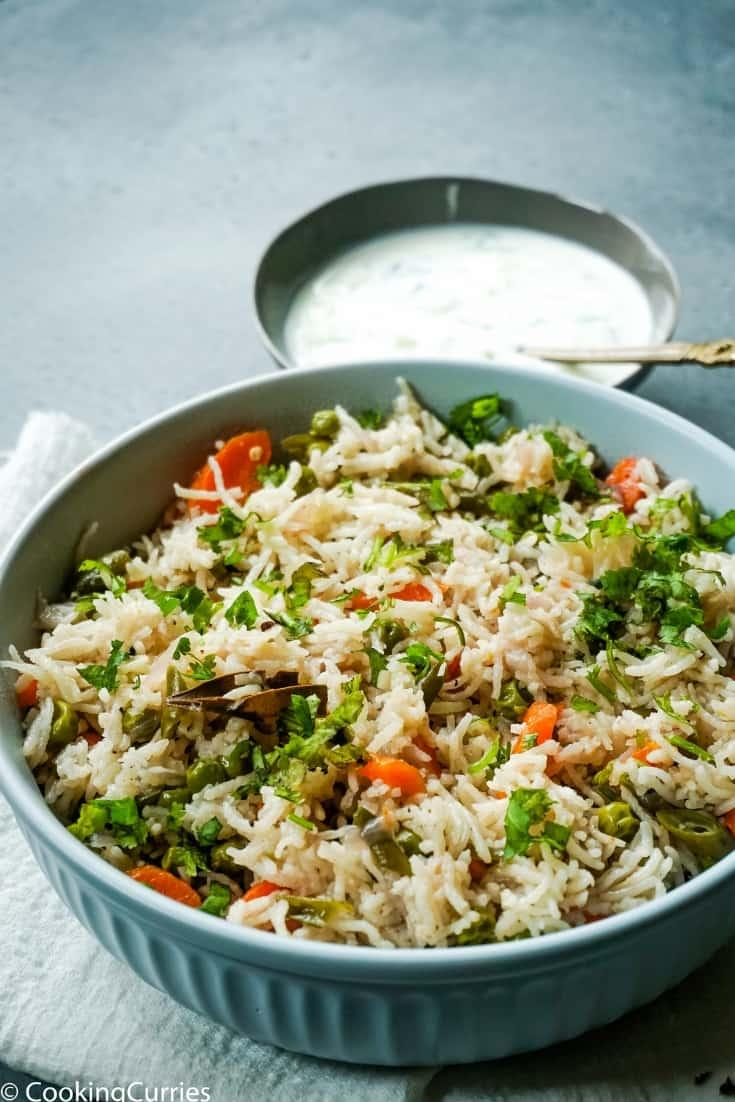veg-pulao: (48, 434, 733, 903)
